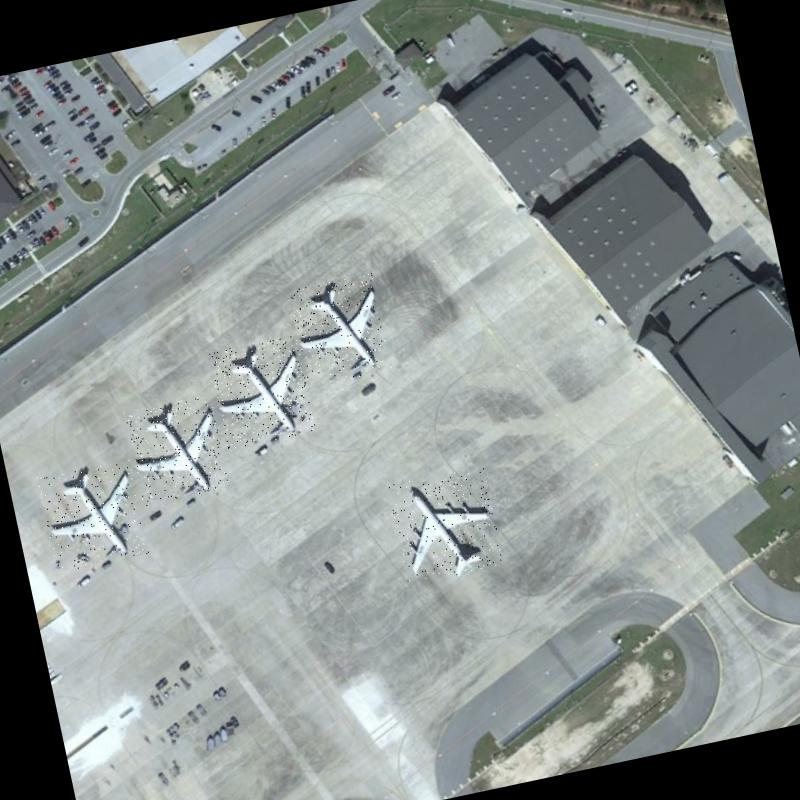A11: (388, 465, 504, 585), (38, 458, 150, 573), (208, 334, 317, 450), (123, 394, 231, 506), (288, 273, 392, 388)
